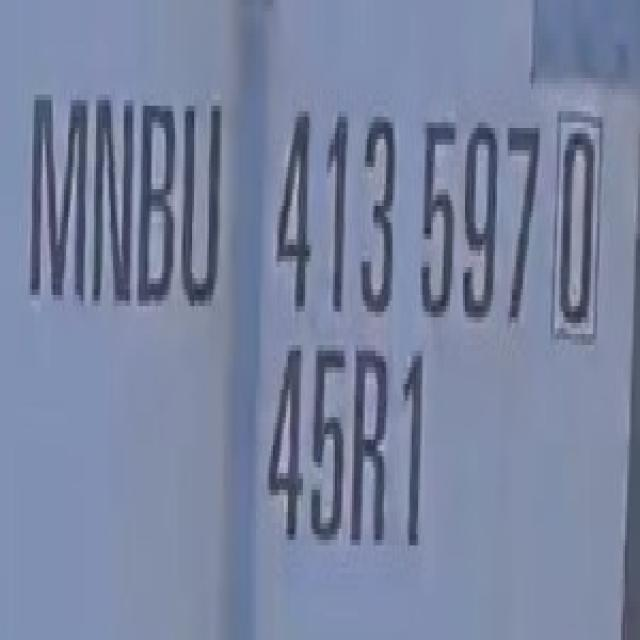dv: (540, 92, 610, 354)
owner: (15, 72, 234, 336)
serial: (273, 100, 544, 350)
size: (264, 330, 439, 546)
